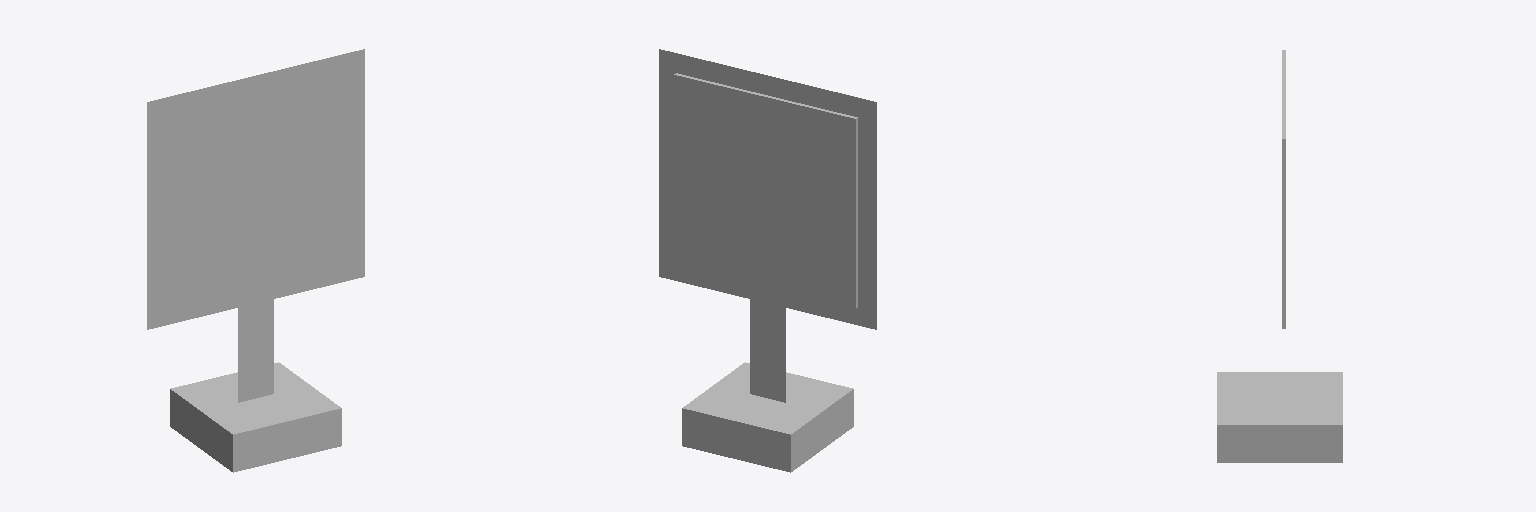
Rendered from aruco_marker.obj.
The picture shows the model from 3 angles: view 1: azimuth 30°, elevation 25°; view 2: azimuth 150°, elevation 25°; view 3: azimuth 270°, elevation 25°; orthographic projection.
Visible parts, largest first — view 1: Plane, Cube.002_Cube.003, Cube.001_Cube.002; view 2: Cube_Cube.001, Plane, Cube.002_Cube.003, Cube.001_Cube.002; view 3: Cube.002_Cube.003, Cube_Cube.001.
Part boxes in pixels (x1,y1,x2,y2): Plane: (147,49,364,329); Cube.002_Cube.003: (170,362,341,472); Cube.001_Cube.002: (238,113,273,402); Cube_Cube.001: (674,73,857,308); Plane: (659,49,876,329); Cube.002_Cube.003: (682,362,853,472); Cube.001_Cube.002: (750,284,785,402); Cube.002_Cube.003: (1217,372,1342,462); Cube_Cube.001: (1282,50,1285,328).
Bounding box in the file's own units: 0.6 × 0.95 × 0.3.